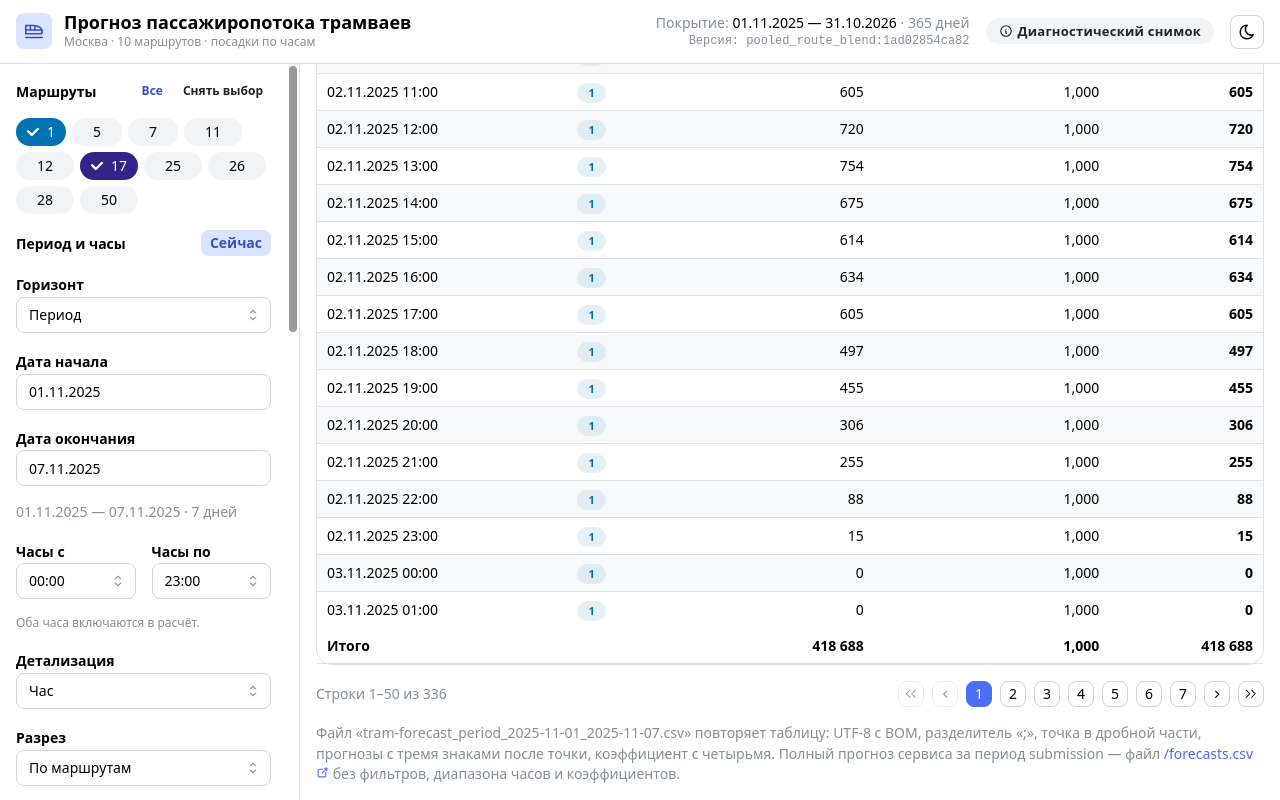
вкладка «Таблица» › смена детализации сбрасывает страницу на первую
The width and height of the screenshot is (1280, 800).
(page scrolled)
Expected: the row "Итого" is shown, 317,628 -> 1263,664
Click the button named "Страница 3" at (1047,694), box 1034,682 -> 1060,708
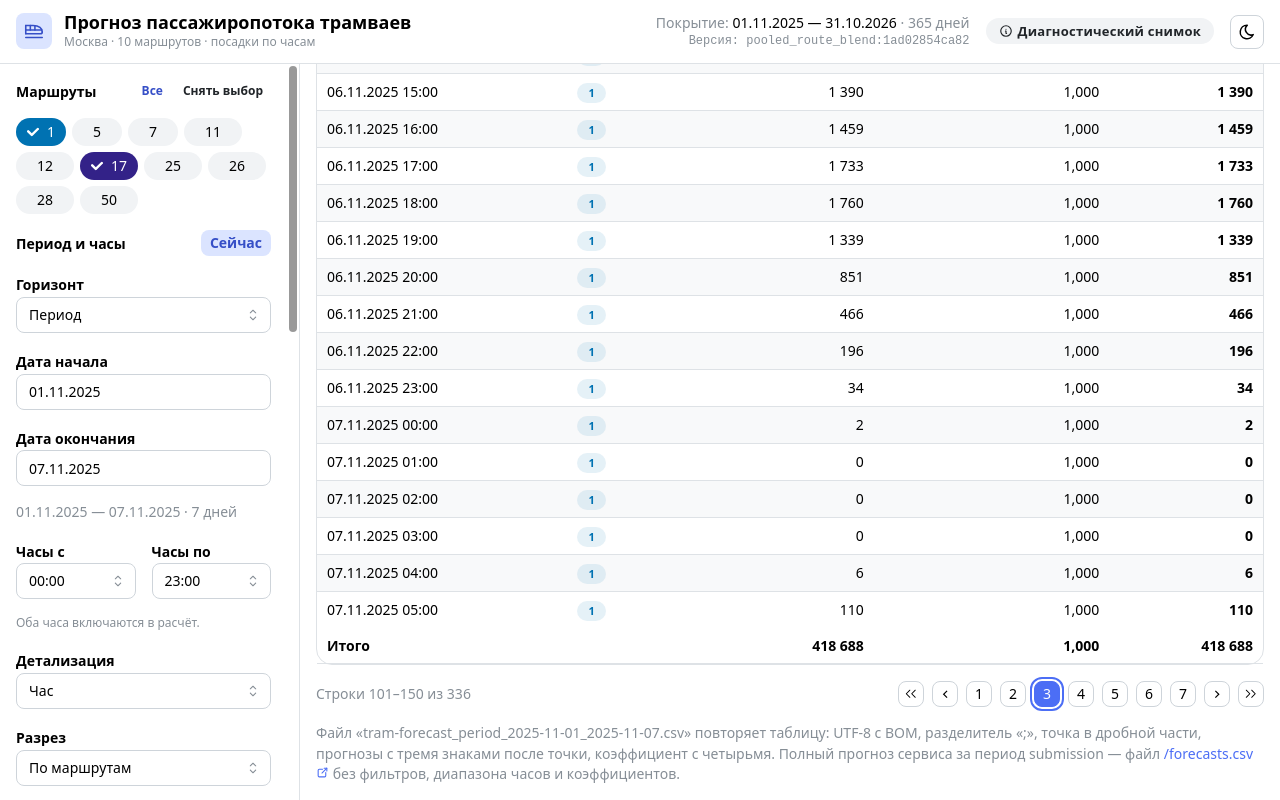
Result: the text "Строки 101–150 из 336" is shown at 316,684 -> 471,705
Select "День" in the dropdown labelled "Детализация" at (144,691), box 16,673 -> 271,709
(page scrolled)
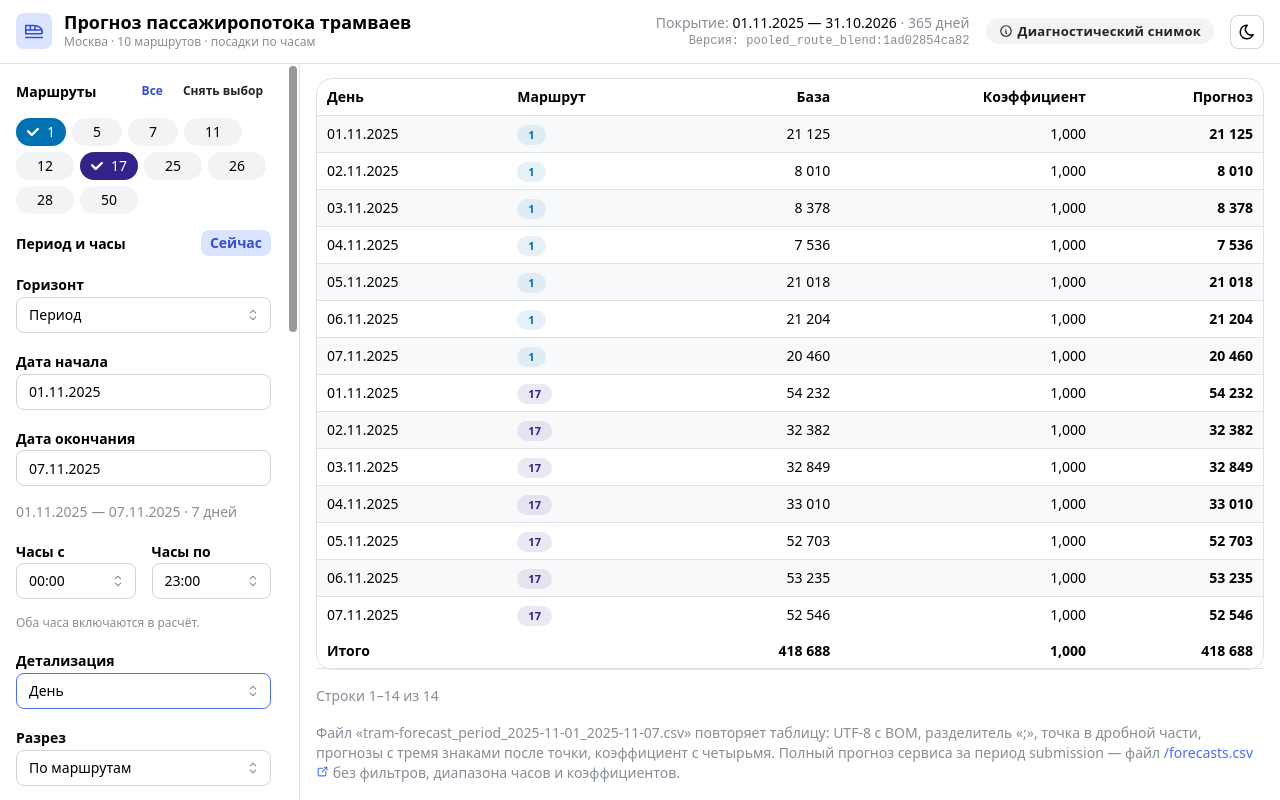
Result: the text "Строки 1–14 из 14" is shown at 316,686 -> 439,707
